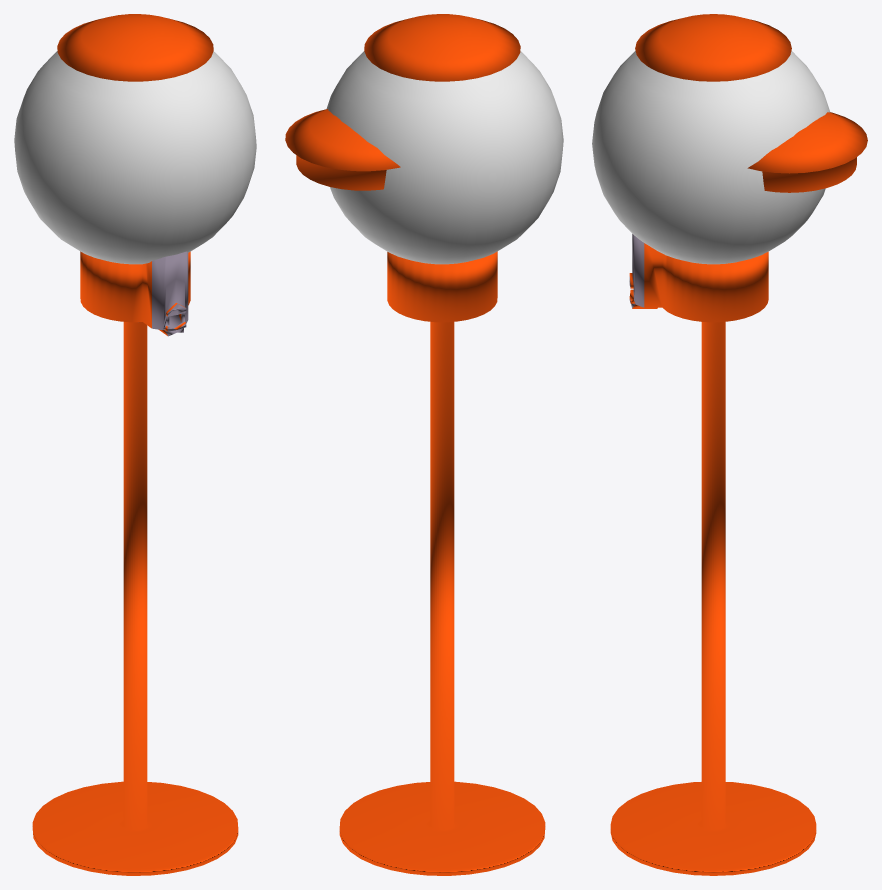
Rendered from Gumball  NO MOD.fbx.
3 renders of one model, left to right at view 1: azimuth 30°, elevation 25°; view 2: azimuth 150°, elevation 25°; view 3: azimuth 270°, elevation 25°, orthographic.
Visible parts, largest first — view 1: Sphere, Cylinder, Sphere.001; view 2: Sphere, Cylinder, Sphere.001, Sphere.002; view 3: Sphere, Cylinder, Sphere.001, Sphere.002.
Boxes of the visible parts, bbox=[...] form: Sphere: bbox=[14, 51, 256, 264]; Cylinder: bbox=[32, 251, 238, 875]; Sphere.001: bbox=[57, 14, 213, 81]; Sphere: bbox=[326, 51, 563, 264]; Cylinder: bbox=[339, 251, 545, 875]; Sphere.001: bbox=[364, 14, 520, 81]; Sphere.002: bbox=[285, 109, 400, 190]; Sphere: bbox=[592, 51, 829, 264]; Cylinder: bbox=[610, 234, 816, 875]; Sphere.001: bbox=[635, 14, 791, 81]; Sphere.002: bbox=[747, 112, 867, 192].
Size of the model in its own units: 375 by 1350 by 419.
